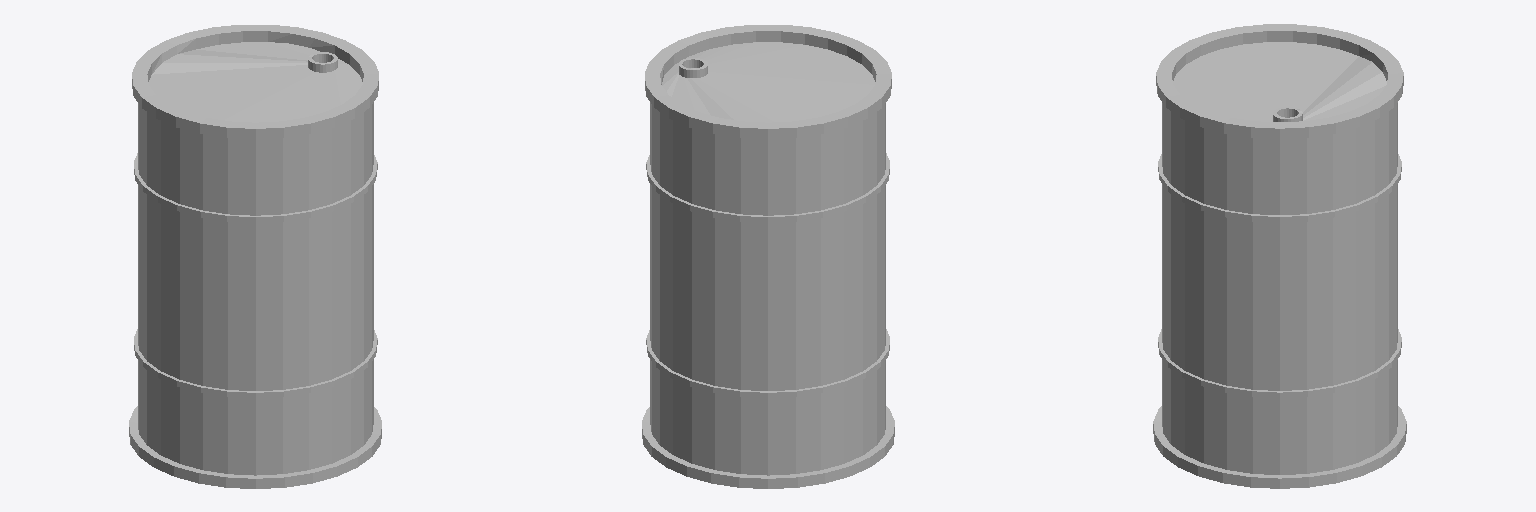
Rendered from barrel.obj.
3 views of the same model, side by side, from view 1: azimuth 30°, elevation 25°; view 2: azimuth 150°, elevation 25°; view 3: azimuth 270°, elevation 25° (orthographic).
Parts seen in each view (by area): view 1: pCylinder1; view 2: pCylinder1; view 3: pCylinder1.
Part boxes in pixels (bbox=[...]): pCylinder1: bbox=[129, 25, 381, 488]; pCylinder1: bbox=[642, 25, 894, 488]; pCylinder1: bbox=[1153, 24, 1406, 488].
Bounding box in the file's own units: 10.55 × 16.5 × 10.57.